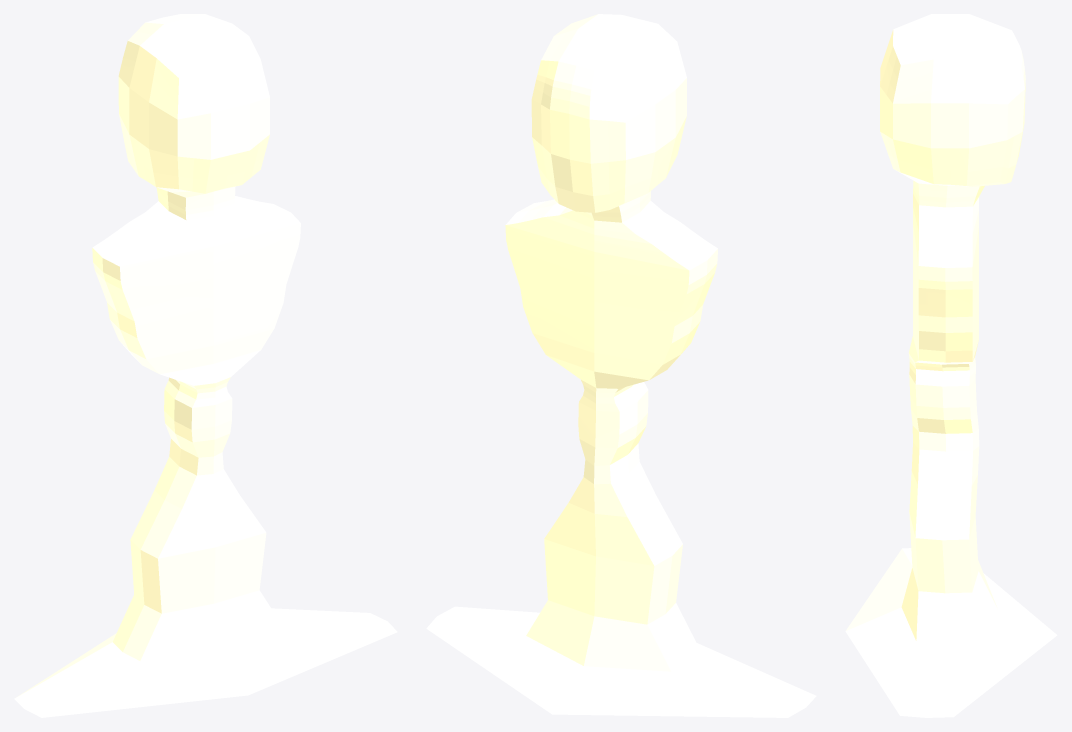
Rendered from dummy.fbx.
3 renders of one model, left to right at view 1: azimuth 30°, elevation 25°; view 2: azimuth 150°, elevation 25°; view 3: azimuth 270°, elevation 25°, orthographic. The views are drawn at different scales.
Parts seen in each view (by area): view 1: Cube.001; view 2: Cube.001; view 3: Cube.001.
Boxes of the visible parts, <box> form: Cube.001: <box>14,14,397,717</box>; Cube.001: <box>426,14,816,717</box>; Cube.001: <box>845,14,1057,717</box>.
Size of the model in its own units: 835 by 1392 by 438.
